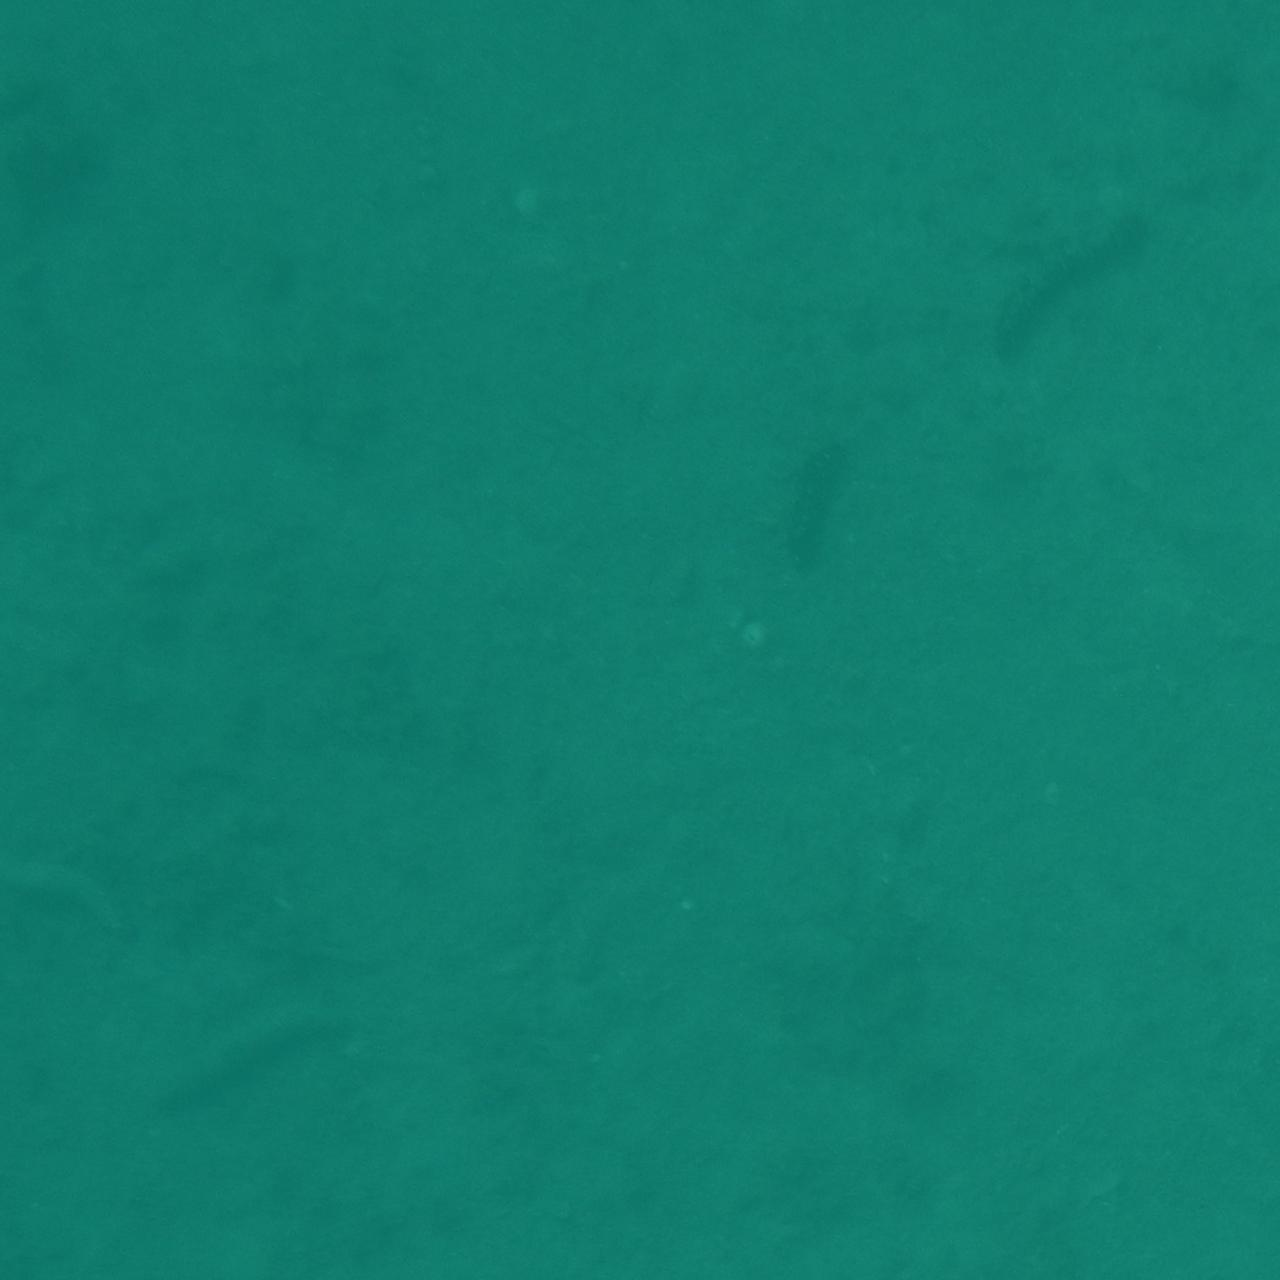Holothuria tubulosa: (974, 196, 1186, 411), (132, 999, 392, 1149), (163, 1155, 381, 1280), (995, 0, 1280, 79), (758, 425, 852, 617), (1133, 0, 1280, 104), (0, 891, 66, 1114), (0, 16, 125, 120), (1193, 0, 1280, 130), (525, 1179, 633, 1280)
